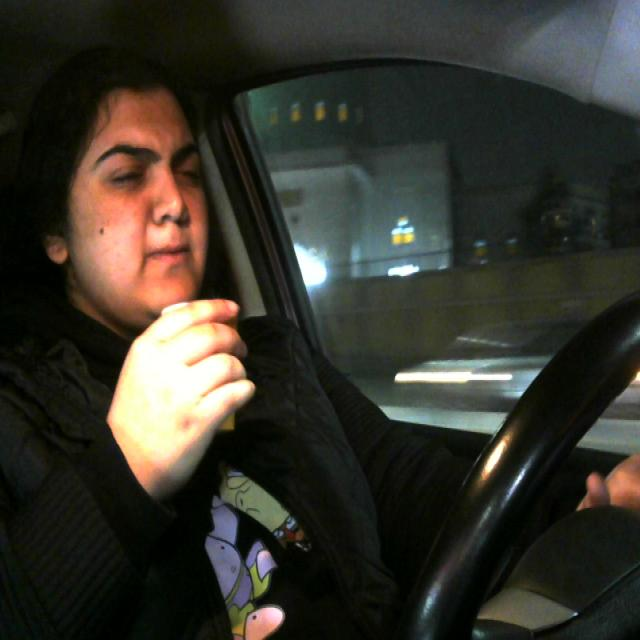drinking: (162, 299, 246, 442)
